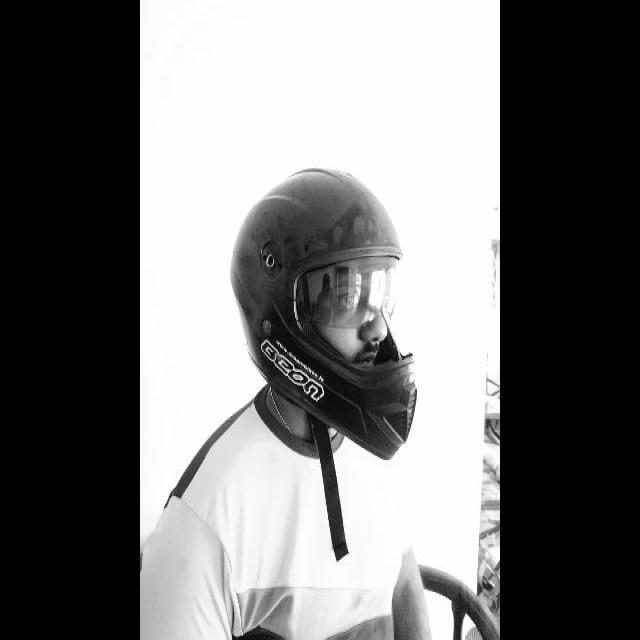5_casco: (230, 167, 418, 460)
